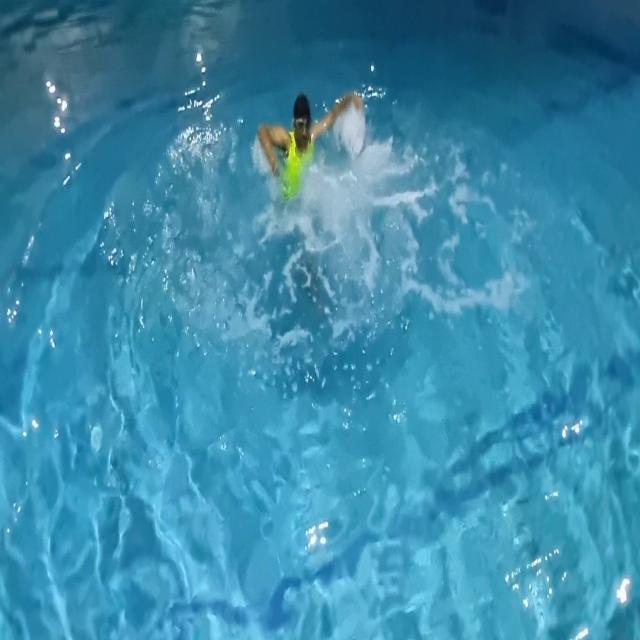Drowning: (236, 67, 440, 300)
